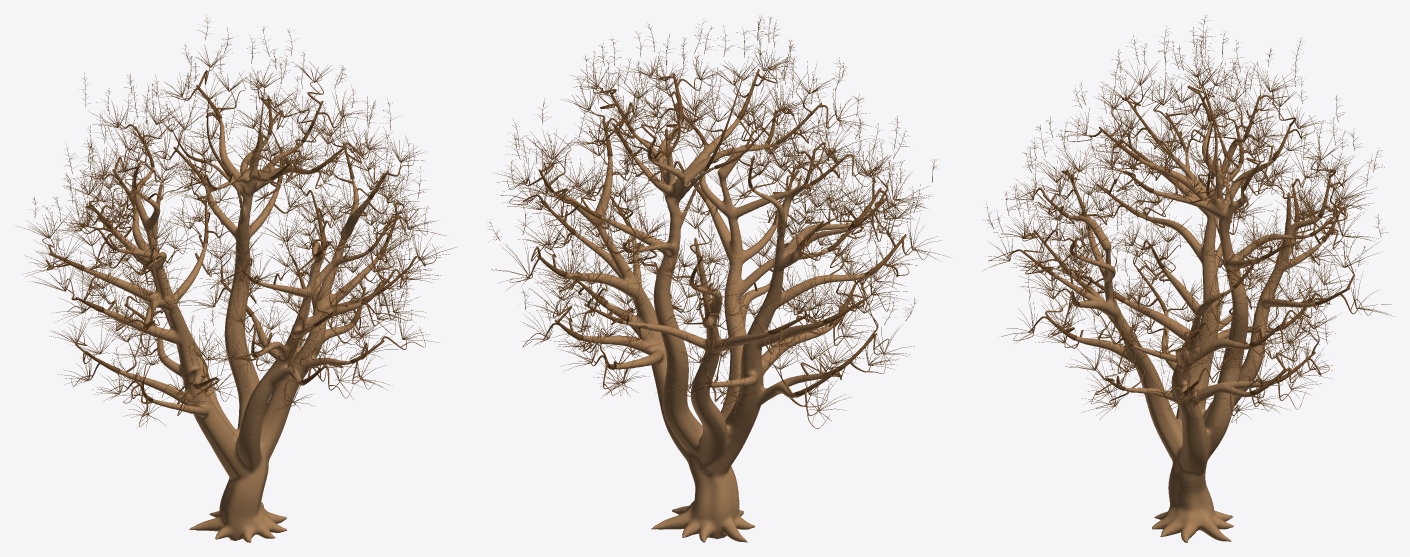
The model's file is 大花紫薇.fbx.
The picture shows the model from 3 angles, left to right: view 1: azimuth 30°, elevation 25°; view 2: azimuth 150°, elevation 25°; view 3: azimuth 270°, elevation 25°; orthographic projection. The views are drawn at different scales.
Visible parts, largest first — view 1: 03_细叶枝与花梗.001, 01_融合分叉树干与根.001, 02_自然弯曲二三级枝.001; view 2: 03_细叶枝与花梗.001, 01_融合分叉树干与根.001, 02_自然弯曲二三级枝.001; view 3: 03_细叶枝与花梗.001, 01_融合分叉树干与根.001, 02_自然弯曲二三级枝.001.
Part boxes in pixels (x1,y1,x2,y2): 03_细叶枝与花梗.001: (17, 15, 456, 428); 01_融合分叉树干与根.001: (83, 118, 381, 542); 02_自然弯曲二三级枝.001: (35, 49, 436, 426); 03_细叶枝与花梗.001: (488, 15, 949, 423); 01_融合分叉树干与根.001: (553, 118, 867, 542); 02_自然弯曲二三级枝.001: (507, 56, 930, 428); 03_细叶枝与花梗.001: (983, 15, 1393, 423); 01_融合分叉树干与根.001: (1052, 121, 1323, 542); 02_自然弯曲二三级枝.001: (988, 63, 1374, 422).
Bounding box in the file's own units: 646 × 760 × 585.
